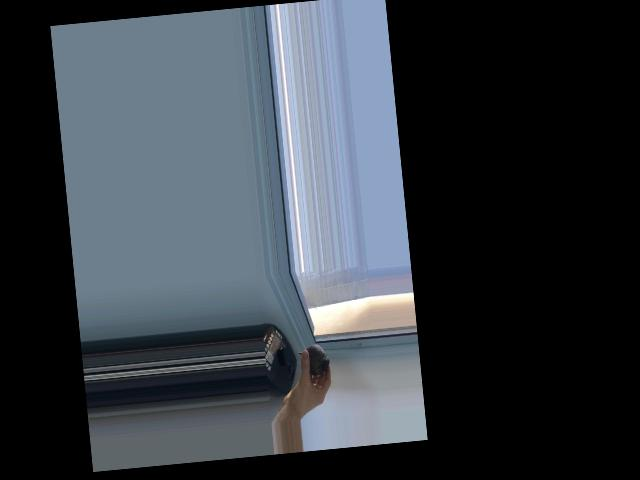beet: (297, 342, 330, 379)
